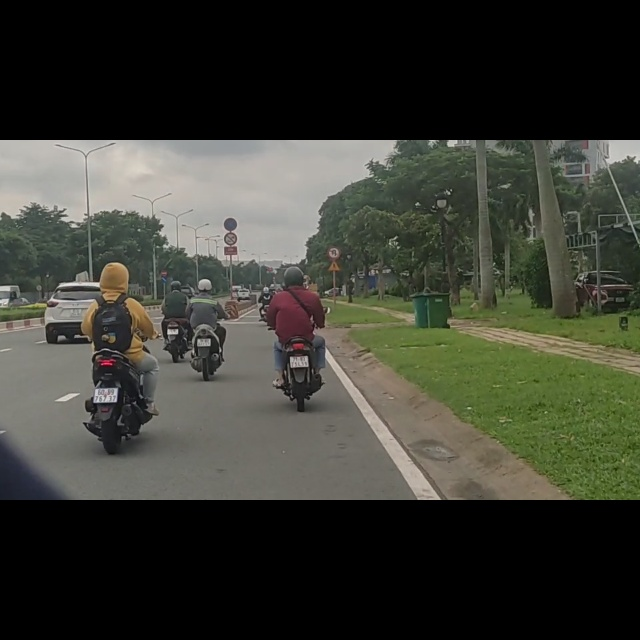bien_hieu_lenh: (327, 188, 341, 213), (223, 165, 238, 188), (225, 137, 238, 162), (327, 215, 341, 233), (160, 230, 168, 243), (160, 243, 168, 255)
